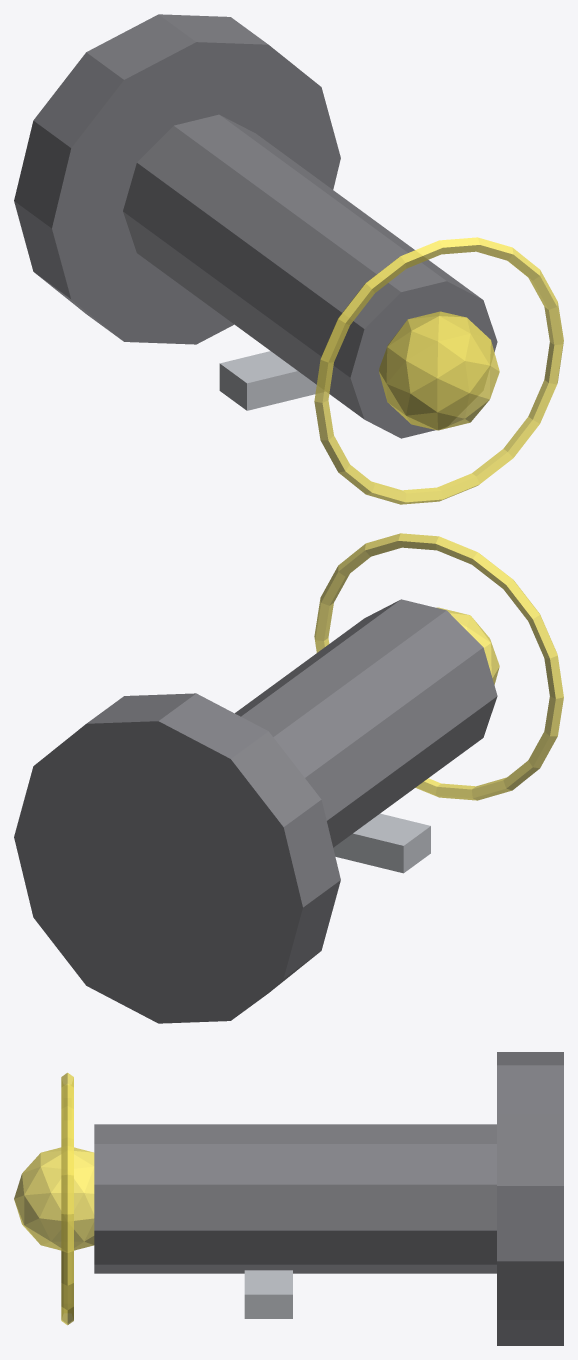
The model's file is scrap_bandit_watchtower.glb.
3 views of the same model, one above another, from view 1: azimuth 30°, elevation 25°; view 2: azimuth 150°, elevation 25°; view 3: azimuth 270°, elevation 25° (orthographic). The views are drawn at different scales.
Visible parts, largest first — view 1: base, tower_body, signal_ring, energy_core, armor_plate; view 2: base, tower_body, signal_ring, armor_plate, energy_core; view 3: tower_body, base, energy_core, signal_ring, armor_plate.
Boxes of the visible parts, x1,y1,x2,y2 form: base: (14, 14, 340, 344); tower_body: (123, 114, 497, 438); signal_ring: (314, 237, 563, 504); energy_core: (379, 311, 499, 430); armor_plate: (219, 351, 316, 410); base: (14, 693, 340, 1023); tower_body: (235, 599, 497, 847); signal_ring: (314, 533, 563, 800); armor_plate: (333, 813, 430, 873); energy_core: (436, 607, 499, 684); tower_body: (94, 1124, 496, 1273); base: (497, 1052, 563, 1345); energy_core: (14, 1147, 94, 1250); signal_ring: (61, 1072, 73, 1325); armor_plate: (244, 1270, 292, 1318).
Size of the model in its own units: 1.1 by 1.1 by 2.05.
